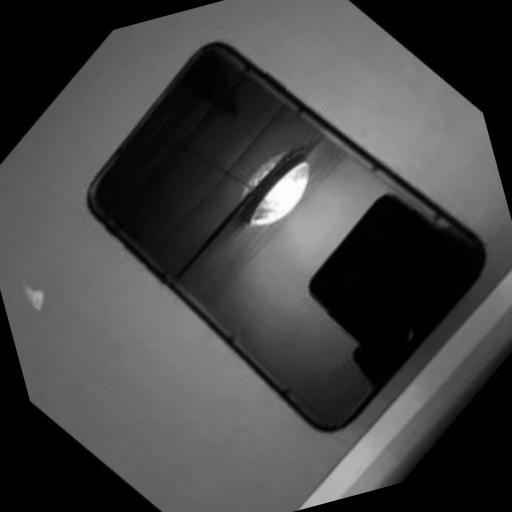phone: (80, 37, 496, 436)
